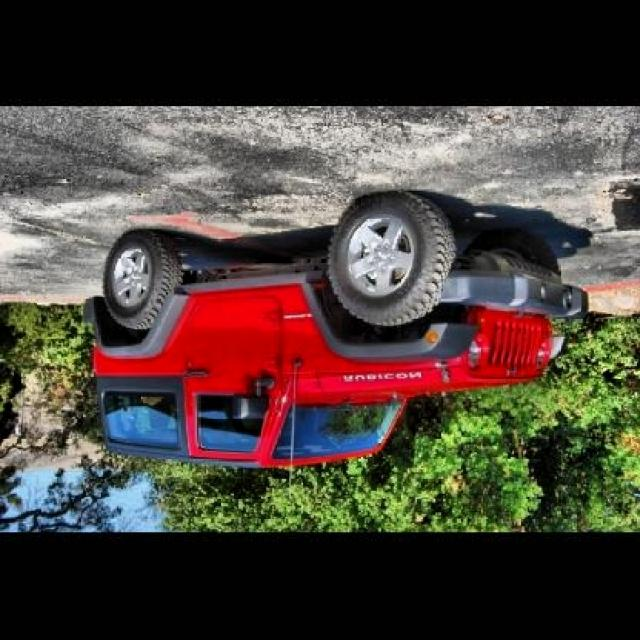red: (87, 192, 579, 462)
